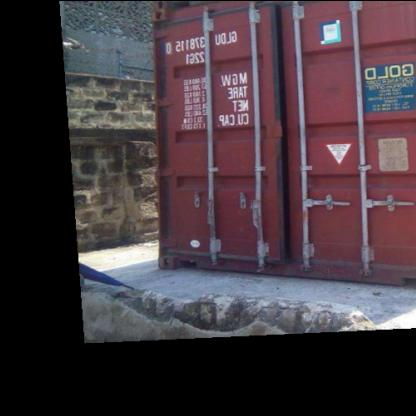Damage: (246, 250, 362, 278), (161, 248, 248, 270)
